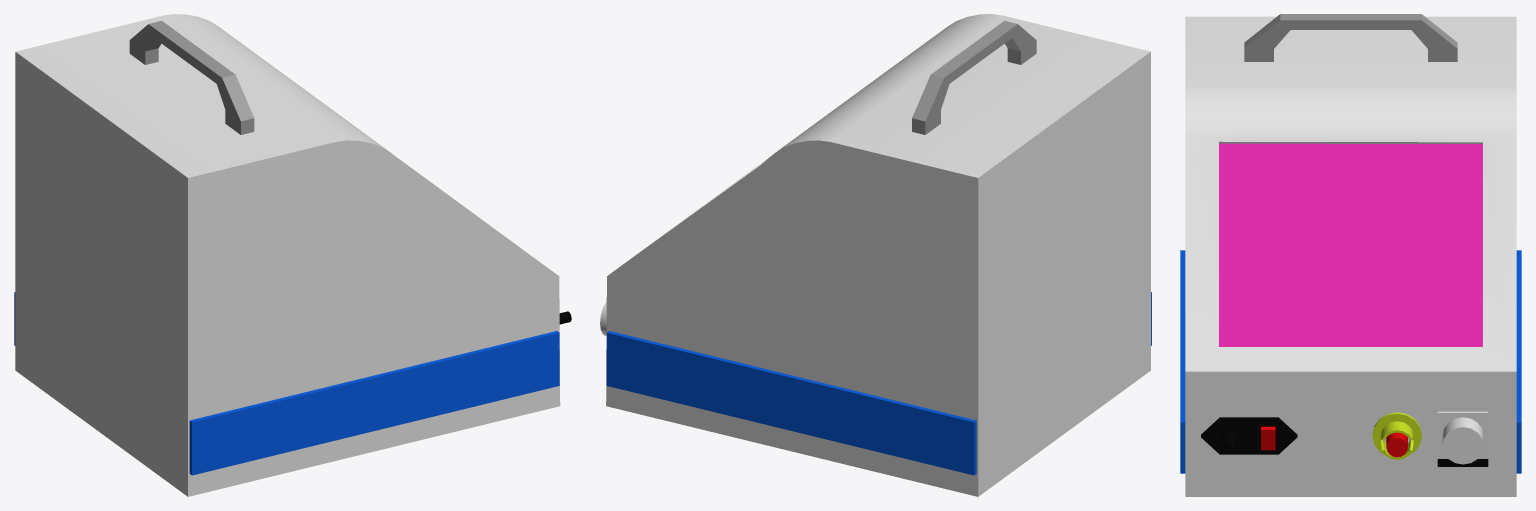
Rendered from ecmoA.fbx.
The picture shows the model from 3 angles, left to right: view 1: azimuth 30°, elevation 25°; view 2: azimuth 150°, elevation 25°; view 3: azimuth 270°, elevation 25°; orthographic projection. The views are drawn at different scales.
Visible parts, largest first — view 1: EcmoA; view 2: EcmoA; view 3: EcmoA.
Part boxes in pixels (x1,y1,x2,y2): EcmoA: (14,14,571,496); EcmoA: (600,14,1151,496); EcmoA: (1180,14,1521,496).
Bounding box in the file's own units: 36.03 × 30.88 × 27.47.
